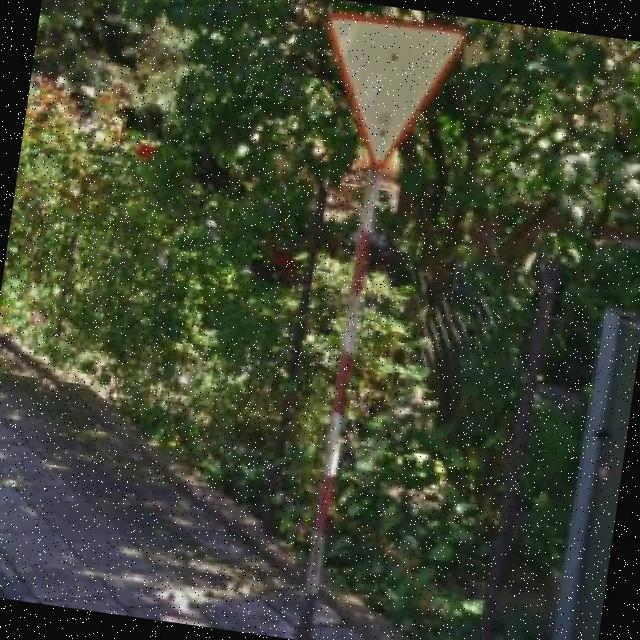Ustap pierwszenstwa: (304, 8, 470, 181)
